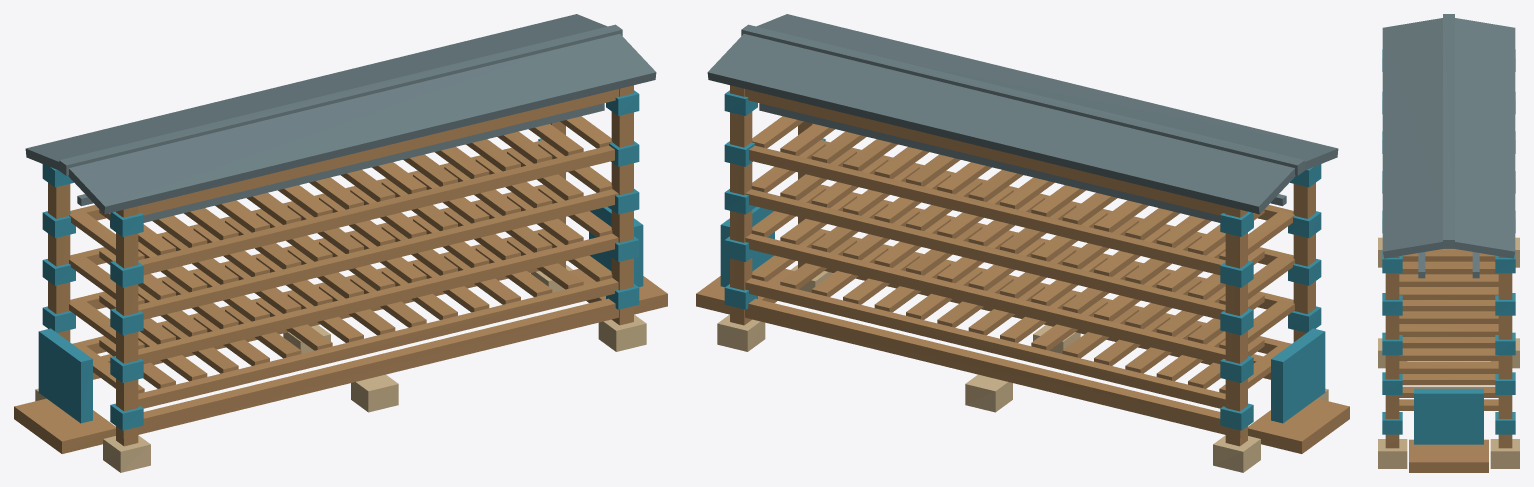
Rendered from drying-rack.source.glb.
The picture shows the model from 3 angles, left to right: view 1: azimuth 30°, elevation 25°; view 2: azimuth 150°, elevation 25°; view 3: azimuth 270°, elevation 25°; orthographic projection. The views are drawn at different scales.
Visible parts, largest first — view 1: drying-rack-front-canopy-panel-mesh, drying-rack-rear-canopy-panel-mesh, drying-rack-long-base-rail-0.58-mesh, drying-rack-shelf-1-side-rail-0.58-mesh, drying-rack-shelf-2-side-rail-0.58-mesh, drying-rack-shelf-3-side-rail-0.58-mesh, drying-rack-shelf-4-side-rail-0.58-mesh, drying-rack-canopy-ridge-mesh, drying-rack-long-top-rail-0.58-mesh, drying-rack-loading-connection-plate-mesh, drying-rack-upper-hanging-rail-0.28-mesh, drying-rack-loading-service-ledge-mesh (+79 smaller); view 2: drying-rack-rear-canopy-panel-mesh, drying-rack-front-canopy-panel-mesh, drying-rack-long-base-rail--0.58-mesh, drying-rack-shelf-1-side-rail--0.58-mesh, drying-rack-shelf-2-side-rail--0.58-mesh, drying-rack-shelf-3-side-rail--0.58-mesh, drying-rack-shelf-4-side-rail--0.58-mesh, drying-rack-canopy-ridge-mesh, drying-rack-long-top-rail--0.58-mesh, drying-rack-loading-connection-plate-mesh, drying-rack-upper-hanging-rail--0.28-mesh, drying-rack-loading-service-ledge-mesh (+79 smaller); view 3: drying-rack-front-canopy-panel-mesh, drying-rack-rear-canopy-panel-mesh, drying-rack-output-connection-plate-mesh, drying-rack-canopy-ridge-mesh, drying-rack-output-service-ledge-mesh, drying-rack-frame-post-3-mesh, drying-rack-frame-post-4-mesh, drying-rack-shelf-2-slat-16-mesh, drying-rack-shelf-3-slat-16-mesh, drying-rack-shelf-3-slat-15-mesh, drying-rack-shelf-4-slat-16-mesh, drying-rack-shelf-2-slat-15-mesh (+30 smaller).
Part boxes in pixels (bbox=[...]): drying-rack-front-canopy-panel-mesh: bbox=[68, 34, 656, 214]; drying-rack-rear-canopy-panel-mesh: bbox=[25, 14, 607, 170]; drying-rack-long-base-rail-0.58-mesh: bbox=[116, 298, 618, 438]; drying-rack-shelf-1-side-rail-0.58-mesh: bbox=[138, 278, 618, 408]; drying-rack-shelf-2-side-rail-0.58-mesh: bbox=[138, 233, 618, 363]; drying-rack-shelf-3-side-rail-0.58-mesh: bbox=[138, 189, 618, 319]; drying-rack-shelf-4-side-rail-0.58-mesh: bbox=[138, 145, 614, 275]; drying-rack-canopy-ridge-mesh: bbox=[59, 24, 622, 175]; drying-rack-long-top-rail-0.58-mesh: bbox=[116, 89, 618, 216]; drying-rack-loading-connection-plate-mesh: bbox=[38, 328, 92, 423]; drying-rack-upper-hanging-rail-0.28-mesh: bbox=[110, 103, 604, 226]; drying-rack-loading-service-ledge-mesh: bbox=[14, 398, 115, 453]; drying-rack-rear-canopy-panel-mesh: bbox=[707, 34, 1295, 214]; drying-rack-front-canopy-panel-mesh: bbox=[756, 14, 1338, 170]; drying-rack-long-base-rail--0.58-mesh: bbox=[745, 298, 1247, 438]; drying-rack-shelf-1-side-rail--0.58-mesh: bbox=[745, 278, 1225, 408]; drying-rack-shelf-2-side-rail--0.58-mesh: bbox=[745, 233, 1225, 363]; drying-rack-shelf-3-side-rail--0.58-mesh: bbox=[745, 189, 1225, 319]; drying-rack-shelf-4-side-rail--0.58-mesh: bbox=[749, 145, 1225, 275]; drying-rack-canopy-ridge-mesh: bbox=[741, 24, 1304, 175]; drying-rack-long-top-rail--0.58-mesh: bbox=[745, 89, 1247, 216]; drying-rack-loading-connection-plate-mesh: bbox=[1271, 328, 1325, 423]; drying-rack-upper-hanging-rail--0.28-mesh: bbox=[759, 103, 1253, 226]; drying-rack-loading-service-ledge-mesh: bbox=[1248, 398, 1349, 453]; drying-rack-front-canopy-panel-mesh: bbox=[1382, 18, 1443, 258]; drying-rack-rear-canopy-panel-mesh: bbox=[1454, 18, 1515, 258]; drying-rack-output-connection-plate-mesh: bbox=[1414, 388, 1483, 444]; drying-rack-canopy-ridge-mesh: bbox=[1443, 14, 1454, 248]; drying-rack-output-service-ledge-mesh: bbox=[1409, 439, 1488, 472]; drying-rack-frame-post-3-mesh: bbox=[1498, 256, 1512, 448]; drying-rack-frame-post-4-mesh: bbox=[1385, 256, 1399, 448]; drying-rack-shelf-2-slat-16-mesh: bbox=[1399, 362, 1498, 373]; drying-rack-shelf-3-slat-16-mesh: bbox=[1399, 325, 1498, 336]; drying-rack-shelf-3-slat-15-mesh: bbox=[1399, 312, 1498, 323]; drying-rack-shelf-4-slat-16-mesh: bbox=[1399, 288, 1498, 299]; drying-rack-shelf-2-slat-15-mesh: bbox=[1399, 349, 1498, 360].
Size of the model in its own units: 5.99 by 2.67 by 1.46.
